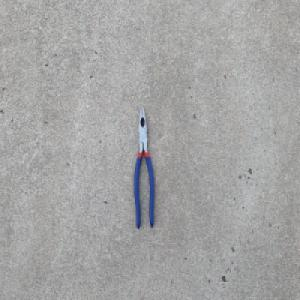Pliers: (132, 104, 155, 232)
